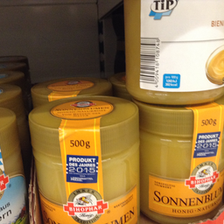honey: (26, 95, 139, 224), (123, 1, 224, 103), (139, 104, 224, 220)
